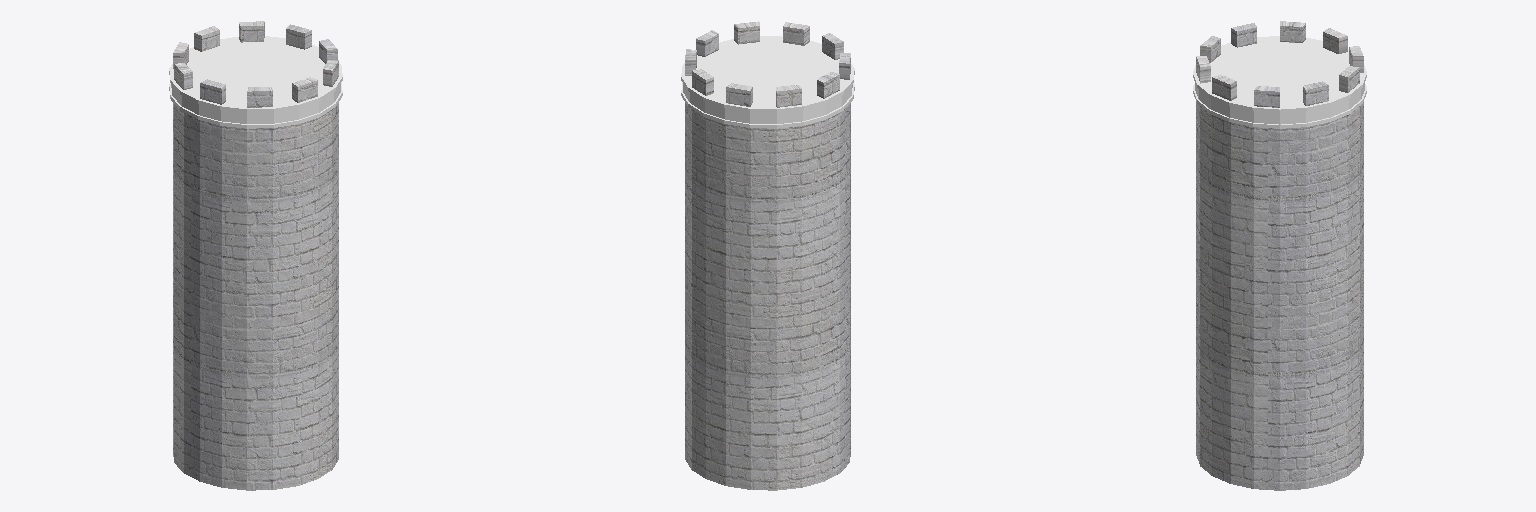
3 renders of one model, left to right at view 1: azimuth 30°, elevation 25°; view 2: azimuth 150°, elevation 25°; view 3: azimuth 270°, elevation 25°, orthographic.
Parts seen in each view (by area): view 1: Object.1; view 2: Object.1; view 3: Object.1.
Boxes of the visible parts, x1=… form: Object.1: x1=169, y1=21, x2=342, y2=490; Object.1: x1=681, y1=21, x2=854, y2=490; Object.1: x1=1193, y1=21, x2=1366, y2=490.
Size of the model in its own units: 22.82 by 57.56 by 22.82.
2 materials, 1 textured.